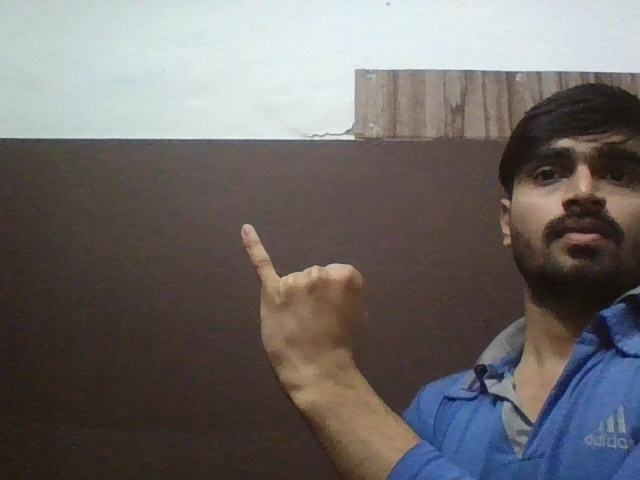J: (235, 219, 384, 381)
